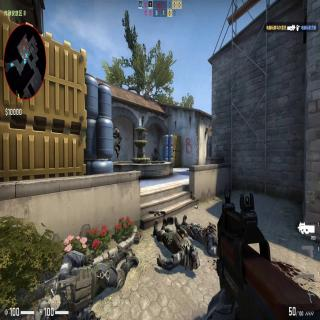T-Body: (112, 126, 122, 158)
T-Head: (114, 126, 117, 132)
